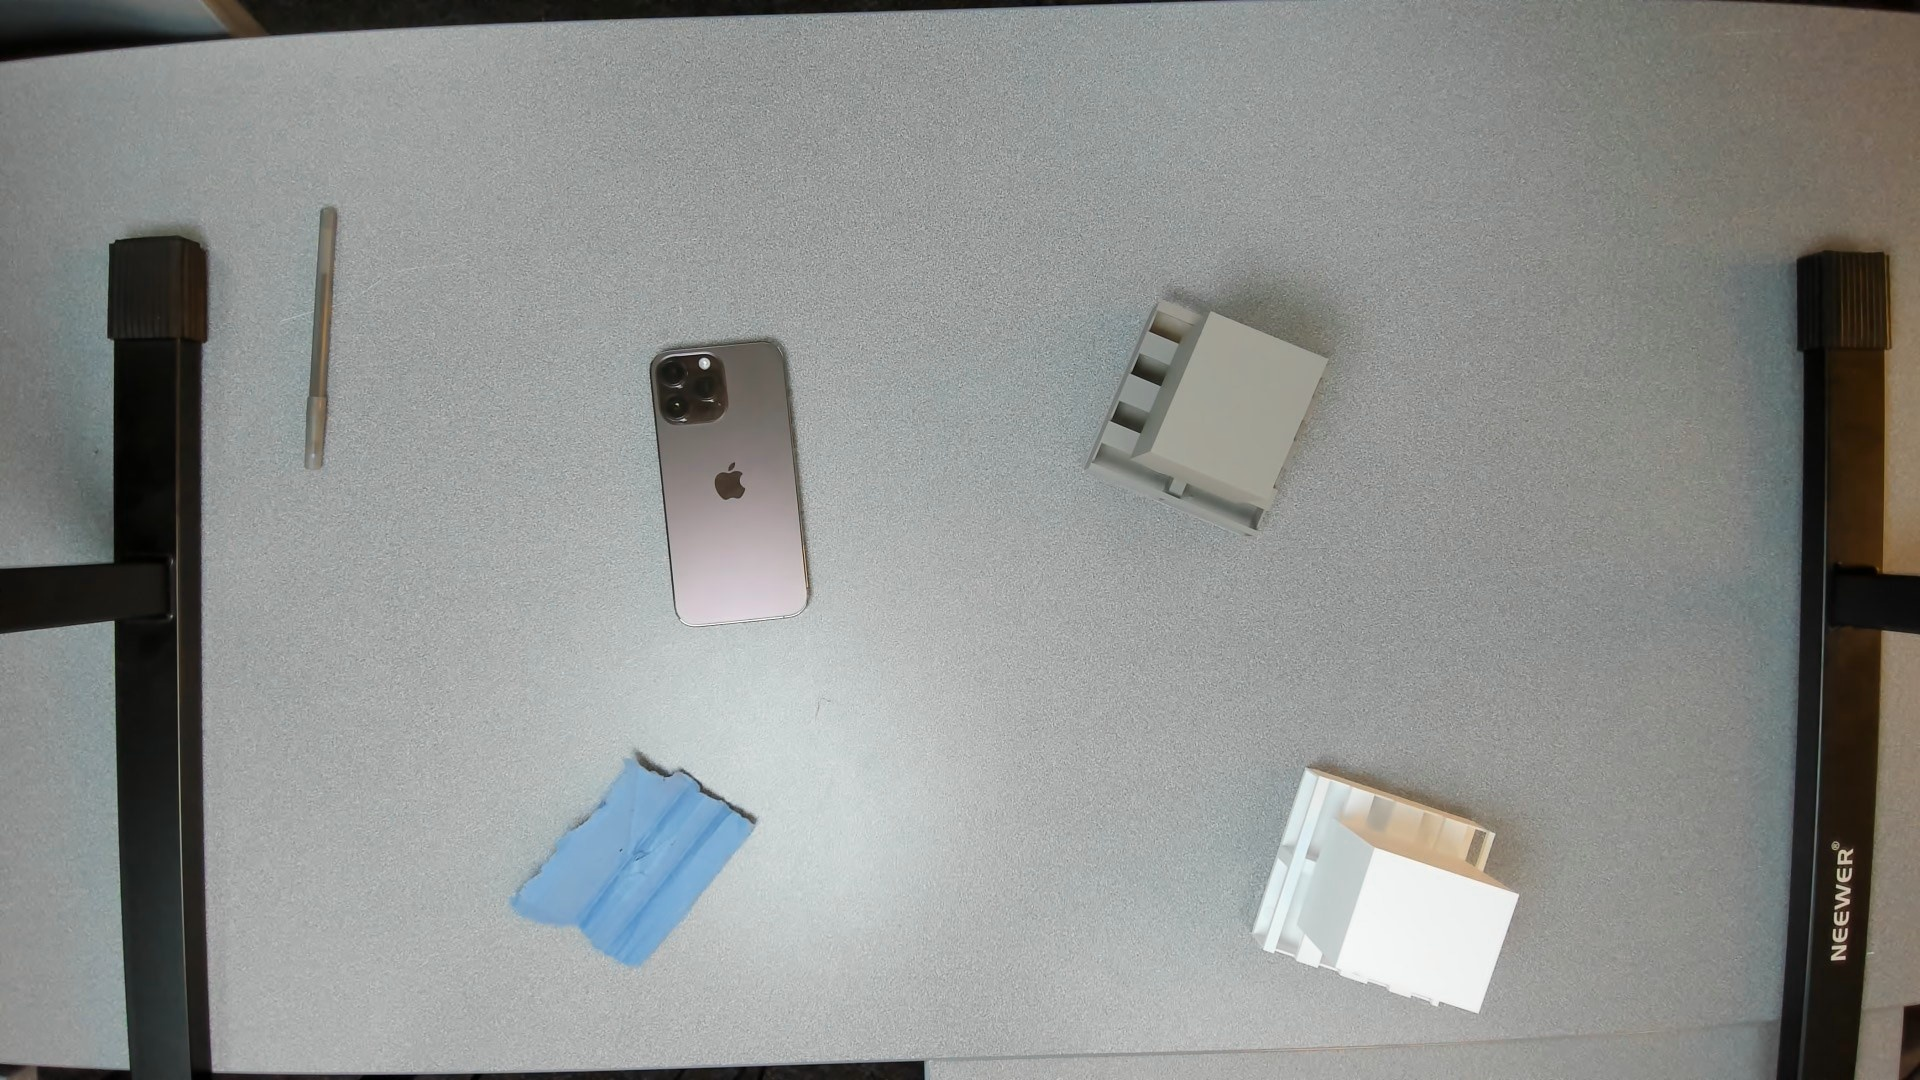grey pallet: (1080, 287, 1342, 554)
white pallet: (1247, 752, 1515, 1054)
